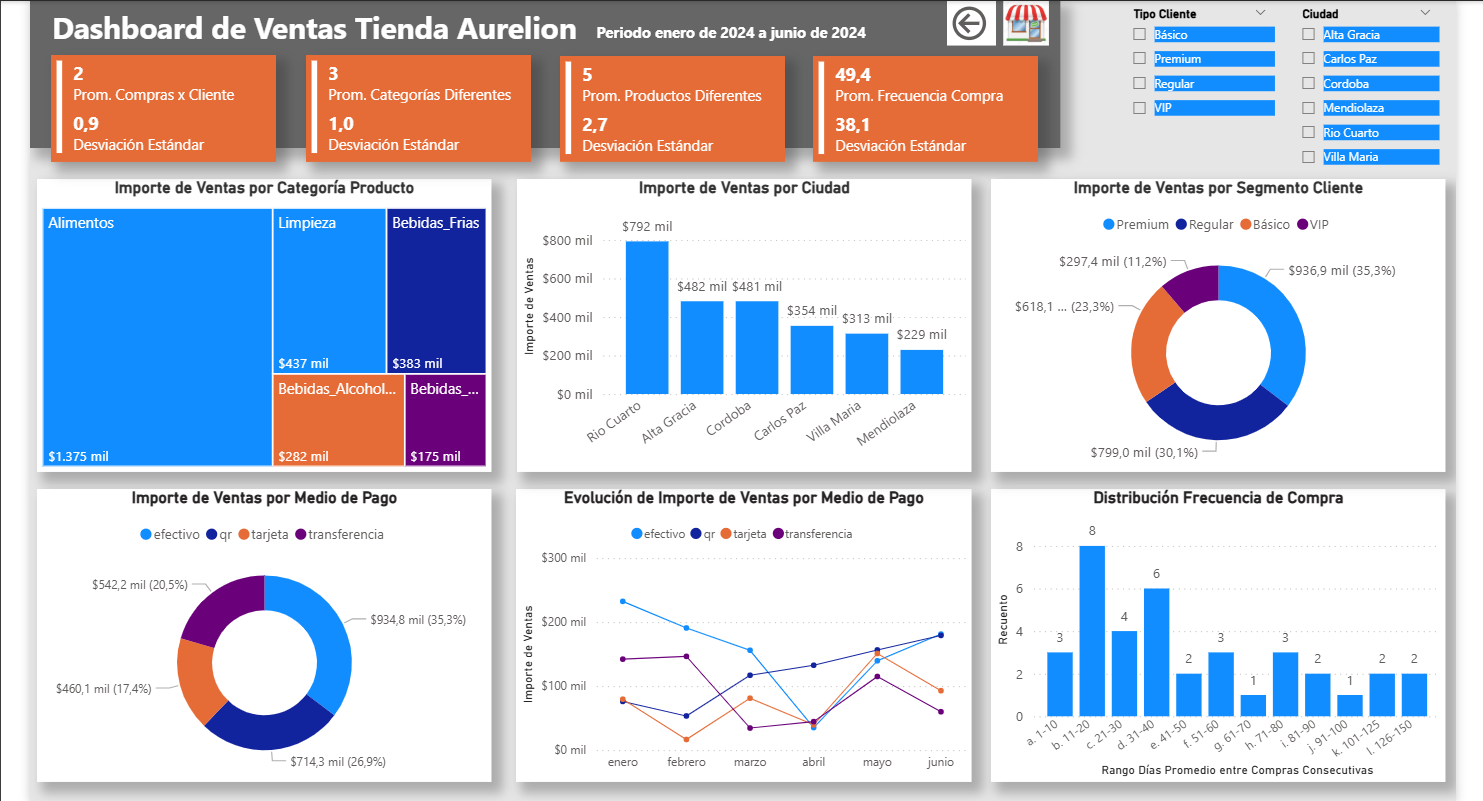

The page's visual inventory and layout, read from the dashboard file:
{"tool":"powerbi","page":{"name":"Ventas Detalle","canvas":[1280,720],"ordinal":2},"visuals":[{"type":"actionButton","box":[0,0,100,40],"z":0},{"type":"textbox","box":[0,0,925.4,131.9],"z":1000},{"type":"textbox","box":[503.3,14.5,267.5,34.5],"z":2000},{"type":"treemap","title":"Importe de Ventas por Categoría Producto","fields":{"Group":["productos.categoría"],"Values":["Sum(detalle_ventas.importe)"]},"box":[6.3,159.8,408.5,263],"z":3000},{"type":"multiRowCard","fields":{"Values":["Avg(clientes segmentado.total_compras)","Sum(clientes segmentado.total_compras)1"]},"box":[18.6,48.9,202.3,95.8],"z":4000},{"type":"multiRowCard","fields":{"Values":["Avg(clientes segmentado.categorias_diferentes)","Sum(clientes segmentado.categorias_diferentes)1"]},"box":[248.2,48.9,202.3,95.8],"z":5000},{"type":"multiRowCard","fields":{"Values":["Avg(clientes segmentado.productos_diferentes)","Sum(clientes segmentado.productos_diferentes)"]},"box":[476.3,49.6,202.1,95.4],"z":6000},{"type":"image","box":[862.7,0,62.8,40.4],"z":7000},{"type":"donutChart","title":"Importe de Ventas por Medio de Pago","fields":{"Series":["ventas.medio_pago"],"Y":["Sum(detalle_ventas.importe)"]},"box":[6.3,438.1,408.5,263],"z":8000},{"type":"multiRowCard","fields":{"Values":["Avg(clientes segmentado.frecuencia_compra)","Sum(clientes segmentado.frecuencia_compra)"]},"box":[702.7,49.6,202.1,95.4],"z":9000},{"type":"lineChart","title":"Evolución de Importe de Ventas por Medio de Pago","fields":{"Y":["Sum(detalle_ventas.importe)"],"Category":["Calendario.Mes"],"Series":["ventas.medio_pago"]},"box":[436.3,438.1,409.4,263],"z":10000},{"type":"slicer","fields":{"Values":["clientes segmentado.segmento"]},"box":[977.6,0,144.5,132],"z":11000},{"type":"slicer","fields":{"Values":["clientes.ciudad"]},"box":[1129.5,0,140.7,160.2],"z":12000},{"type":"clusteredColumnChart","title":"Distribución Frecuencia de Compra","fields":{"Y":["CountNonNull(clientes segmentado.Rango Frecuencia)"],"Category":["clientes segmentado.Rango Frecuencia"]},"box":[862.7,438.1,408.5,263],"z":13000},{"type":"clusteredColumnChart","title":"Importe de Ventas por Ciudad","fields":{"Category":["clientes.ciudad"],"Y":["Sum(detalle_ventas.importe)"]},"box":[437.2,159.8,408.5,263],"z":14000},{"type":"donutChart","title":"Importe de Ventas por Segmento Cliente","fields":{"Category":["clientes segmentado.segmento"],"Y":["Sum(detalle_ventas.importe)"]},"box":[862.7,159.8,408.5,263],"z":15000},{"type":"actionButton","box":[823.6,0,43.7,40.1],"z":16000}]}

Visuals, with their boxes on the page's 1280x720 design canvas (x1, y1, x2, y2). These are canvas units, not pixel positions in the 1483x801 screenshot, which may show the page scaled, cropped or inside an application window:
actionButton: pyautogui.locateOnScreen(0, 0, 100, 40)
textbox: pyautogui.locateOnScreen(0, 0, 925, 132)
textbox: pyautogui.locateOnScreen(503, 14, 771, 49)
"Importe de Ventas por Categoría Producto" treemap: pyautogui.locateOnScreen(6, 160, 415, 423)
multiRowCard - Avg(clientes segmentado.total_compras) x Sum(clientes segmentado.total_compras)1: pyautogui.locateOnScreen(19, 49, 221, 145)
multiRowCard - Avg(clientes segmentado.categorias_diferentes) x Sum(clientes segmentado.categorias_diferentes)1: pyautogui.locateOnScreen(248, 49, 450, 145)
multiRowCard - Avg(clientes segmentado.productos_diferentes) x Sum(clientes segmentado.productos_diferentes): pyautogui.locateOnScreen(476, 50, 678, 145)
image: pyautogui.locateOnScreen(863, 0, 926, 40)
"Importe de Ventas por Medio de Pago" donutChart: pyautogui.locateOnScreen(6, 438, 415, 701)
multiRowCard - Avg(clientes segmentado.frecuencia_compra) x Sum(clientes segmentado.frecuencia_compra): pyautogui.locateOnScreen(703, 50, 905, 145)
"Evolución de Importe de Ventas por Medio de Pago" lineChart: pyautogui.locateOnScreen(436, 438, 846, 701)
slicer - clientes segmentado.segmento: pyautogui.locateOnScreen(978, 0, 1122, 132)
slicer - clientes.ciudad: pyautogui.locateOnScreen(1130, 0, 1270, 160)
"Distribución Frecuencia de Compra" clusteredColumnChart: pyautogui.locateOnScreen(863, 438, 1271, 701)
"Importe de Ventas por Ciudad" clusteredColumnChart: pyautogui.locateOnScreen(437, 160, 846, 423)
"Importe de Ventas por Segmento Cliente" donutChart: pyautogui.locateOnScreen(863, 160, 1271, 423)
actionButton: pyautogui.locateOnScreen(824, 0, 867, 40)
